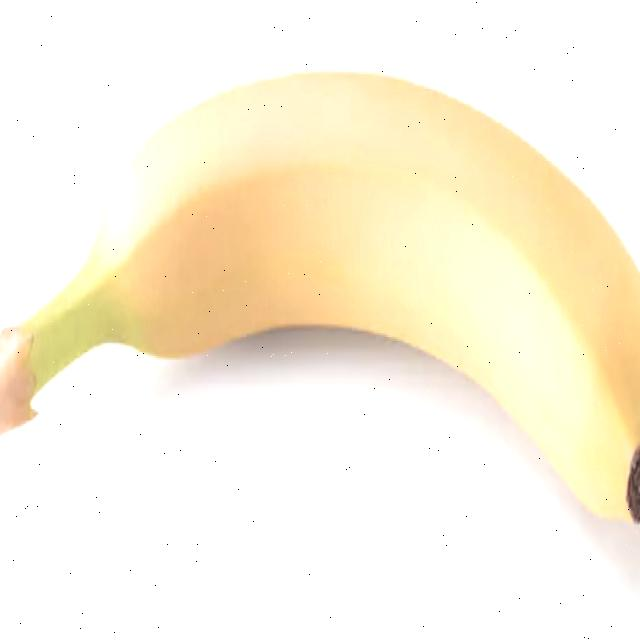Ripe: (0, 13, 640, 604)
